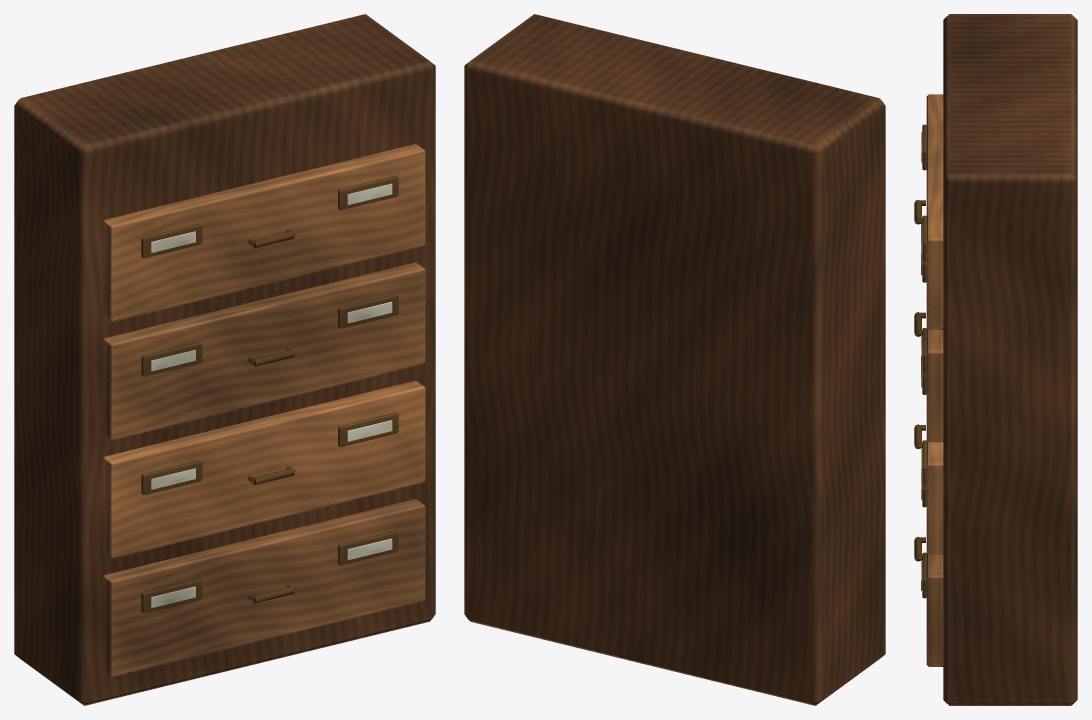
Rendered from Furn_Council_FileCabinet.fbx.
3 renders of one model, left to right at view 1: azimuth 30°, elevation 25°; view 2: azimuth 150°, elevation 25°; view 3: azimuth 270°, elevation 25°, orthographic. The views are drawn at different scales.
Parts seen in each view (by area): view 1: Furn_Council_FileCabinet; view 2: Furn_Council_FileCabinet; view 3: Furn_Council_FileCabinet.
Boxes of the visible parts, x1,y1,x2,y2 form: Furn_Council_FileCabinet: (14,14,435,705); Furn_Council_FileCabinet: (464,14,885,705); Furn_Council_FileCabinet: (914,14,1077,705).
Bounding box in the file's own units: 1.2 × 1.8 × 0.5.
Materials: 4 (4 with a texture image).
